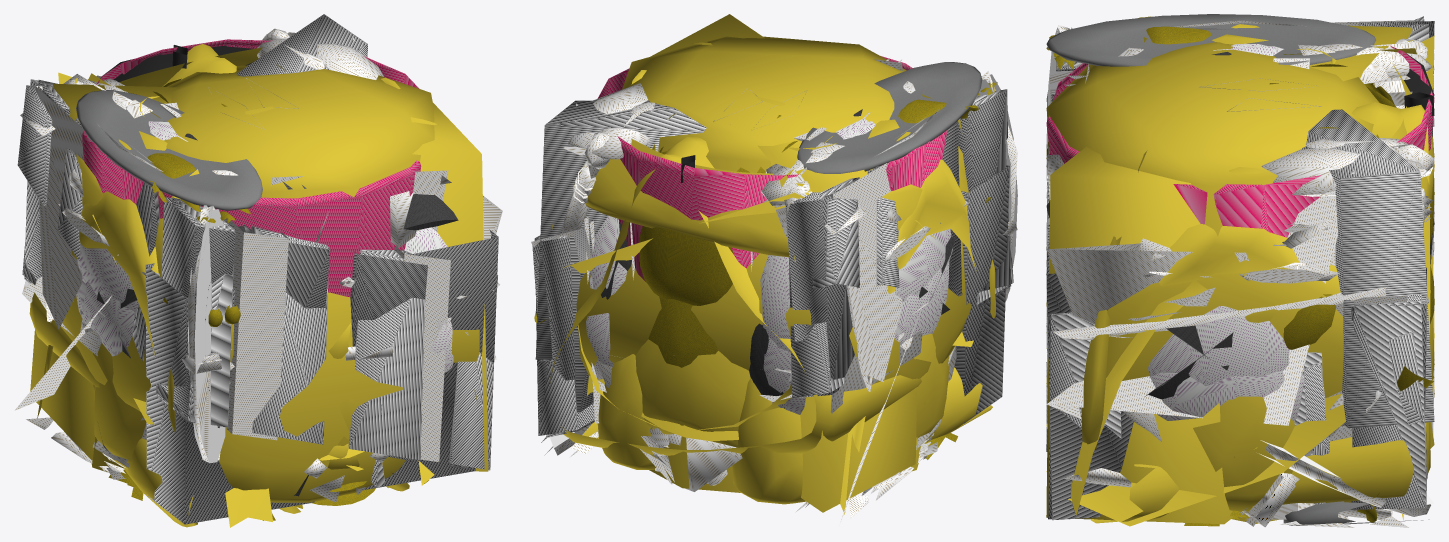
Rendered from chica.glb.
3 views of the same model, side by side, from view 1: azimuth 30°, elevation 25°; view 2: azimuth 150°, elevation 25°; view 3: azimuth 270°, elevation 25° (orthographic). The views are drawn at different scales.
Parts seen in each view (by area): view 1: cabeza, cuerpo, mandibula; view 2: cabeza, cuerpo, mandibula; view 3: cabeza, cuerpo, mandibula.
Part boxes in pixels (bbox=[...]): cabeza: bbox=[14, 14, 502, 527]; cuerpo: bbox=[58, 28, 468, 527]; mandibula: bbox=[17, 72, 493, 487]; cabeza: bbox=[532, 14, 1011, 523]; cuerpo: bbox=[534, 42, 1017, 504]; mandibula: bbox=[531, 90, 1013, 435]; cabeza: bbox=[1046, 20, 1434, 527]; cuerpo: bbox=[1046, 14, 1434, 527]; mandibula: bbox=[1046, 16, 1434, 519].
Size of the model in its own units: 65535 by 65535 by 65535.
29 materials, 20 textured.
